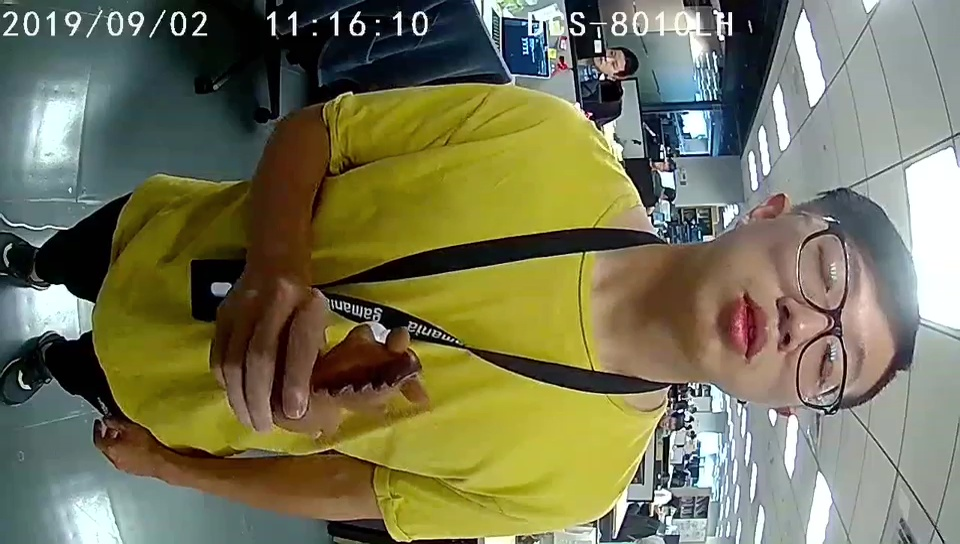horse: (319, 322, 429, 432)
